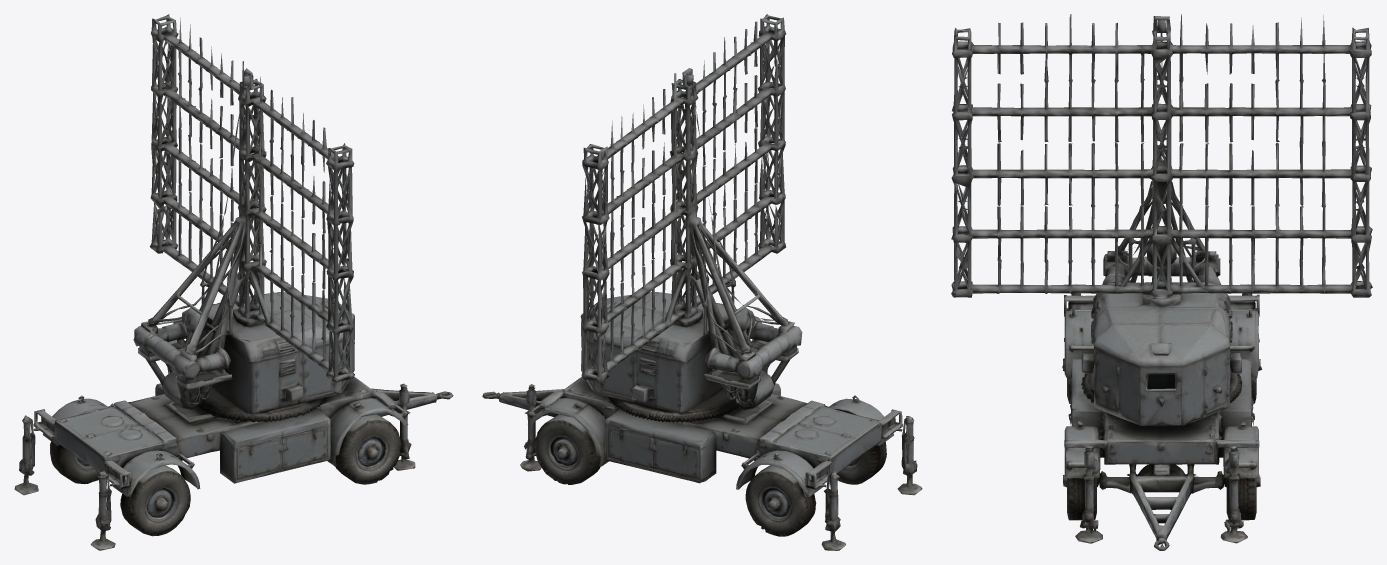
The model's file is prop_freya.glb.
The picture shows the model from 3 angles, left to right: view 1: azimuth 30°, elevation 25°; view 2: azimuth 150°, elevation 25°; view 3: azimuth 270°, elevation 25°; orthographic projection. The views are drawn at different scales.
Parts seen in each view (by area): view 1: tripo_node_bf152778-d970-43c2-a072-c018a76454f0; view 2: tripo_node_bf152778-d970-43c2-a072-c018a76454f0; view 3: tripo_node_bf152778-d970-43c2-a072-c018a76454f0.
Boxes of the visible parts, x1,y1,x2,y2 form: tripo_node_bf152778-d970-43c2-a072-c018a76454f0: (14, 14, 453, 550); tripo_node_bf152778-d970-43c2-a072-c018a76454f0: (482, 14, 922, 550); tripo_node_bf152778-d970-43c2-a072-c018a76454f0: (951, 14, 1372, 550).
Size of the model in its own units: 0.9802 by 0.9559 by 0.7948.
1 material, 1 textured.
